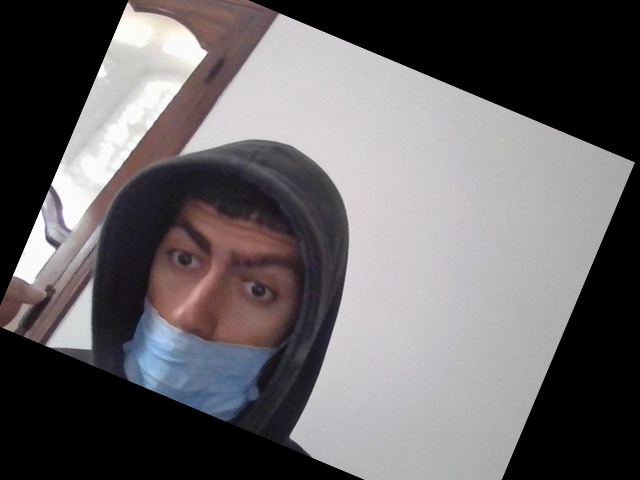mask_weared_incorrect: (114, 167, 307, 445)
